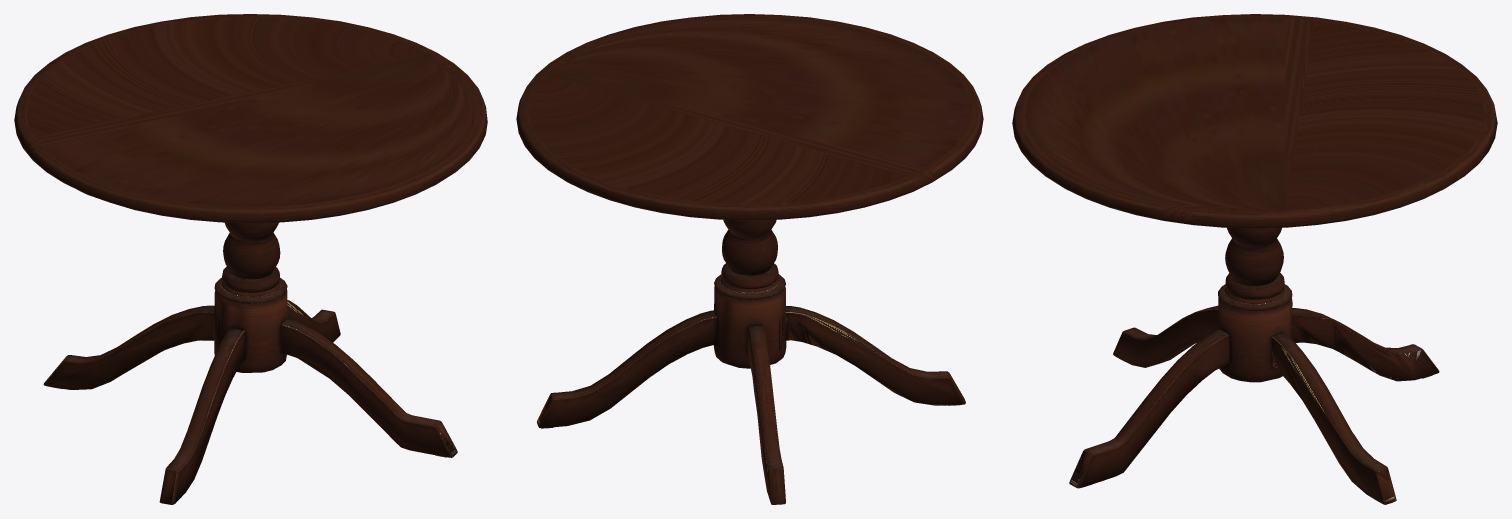
Rendered from round_wooden_table_01.glb.
3 views of the same model, side by side, from view 1: azimuth 30°, elevation 25°; view 2: azimuth 150°, elevation 25°; view 3: azimuth 270°, elevation 25° (orthographic). The views are drawn at different scales.
Visible parts, largest first — view 1: round_wooden_table_01; view 2: round_wooden_table_01; view 3: round_wooden_table_01.
Boxes of the visible parts, <box> form: round_wooden_table_01: <box>14,14,487,504</box>; round_wooden_table_01: <box>516,14,983,504</box>; round_wooden_table_01: <box>1012,14,1497,504</box>.
Bounding box in the file's own units: 1.4 × 1 × 1.4.
Materials: 1 (1 with a texture image).
